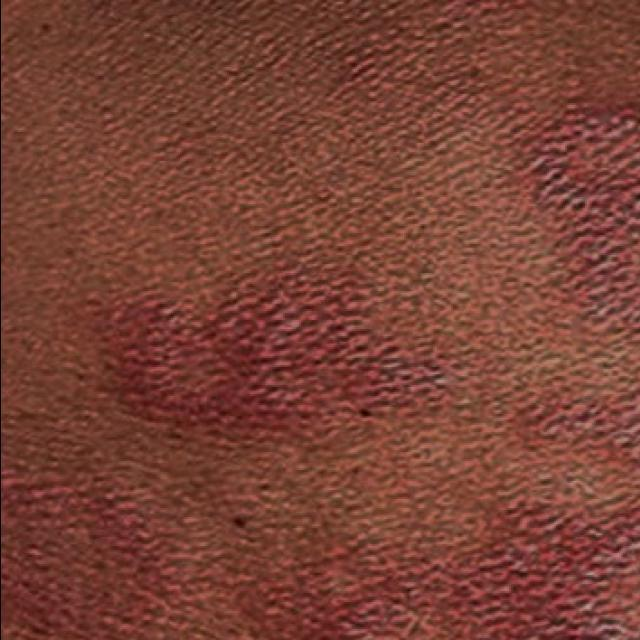Leprosy: (101, 240, 458, 496), (488, 379, 640, 640), (521, 92, 640, 356)
